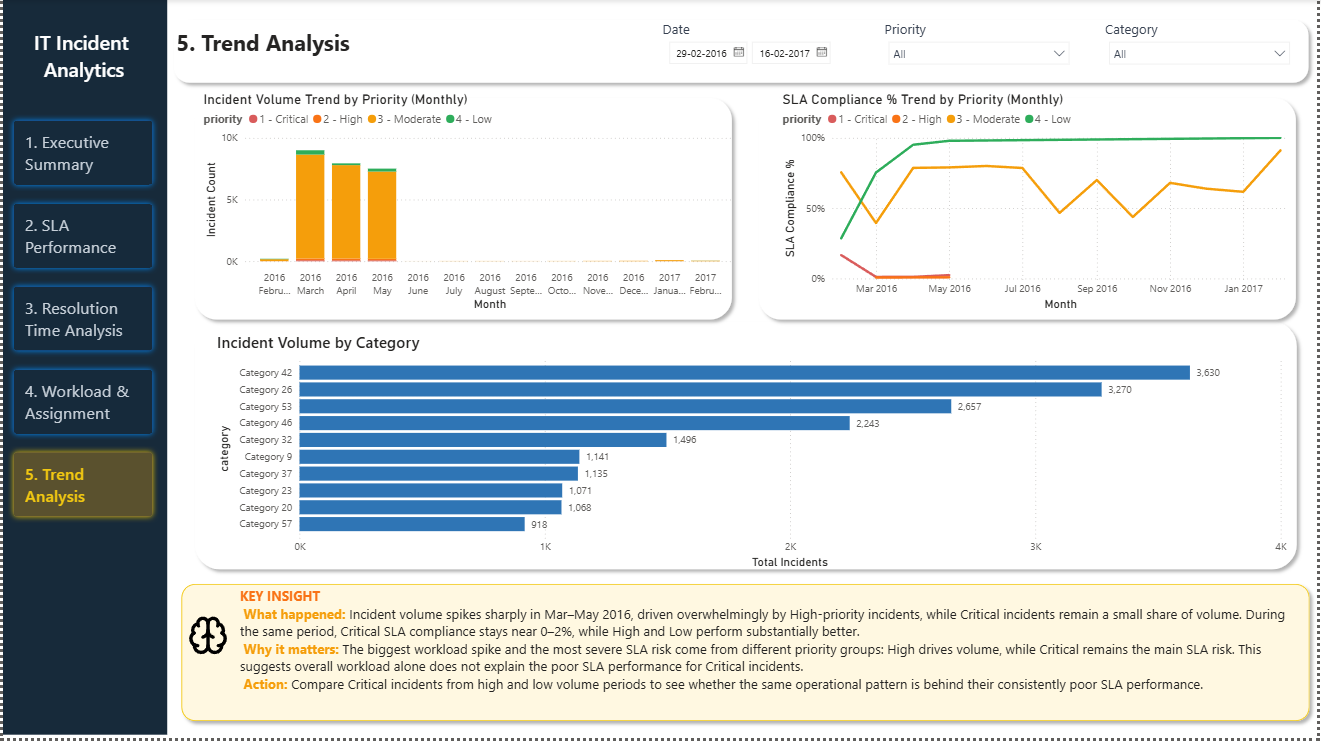

Layout of this report page (visuals, bound fields, positions):
{"tool":"powerbi","page":{"name":"5. Trend Analysis","canvas":[1600,900],"ordinal":4},"visuals":[{"type":"textbox","box":[16,0,272,64],"z":0},{"type":"shape","box":[200,16.9,1400,94.6],"z":0,"group":"g2"},{"type":"shape","box":[0,0,200,896],"z":1000,"group":"g3"},{"type":"lineChart","title":"Incident Volume Trend by Priority (Monthly)","fields":{"Category":["incidents.opened_at.Variation.Date Hierarchy.Year","incidents.opened_at.Variation.Date Hierarchy.Month"],"Y":["CountNonNull(incidents.number)"],"Series":["incidents.priority"]},"box":[16,144,608,496],"z":1000},{"type":"lineChart","title":"SLA Compliance % Trend by Priority (Monthly)","fields":{"Category":["incidents.opened_at.Variation.Date Hierarchy.Year","incidents.opened_at.Variation.Date Hierarchy.Month"],"Y":["_Measures.SLA Compliance %"],"Series":["incidents.priority"]},"box":[640,16,544,352],"z":2000},{"type":"clusteredBarChart","title":"Incident Volume by Category","fields":{"Category":["incidents.category"],"Y":["CountNonNull(incidents.number)"]},"box":[672,384,544,320],"z":3000},{"type":"group","id":"g1","title":"Group 6","box":[0,0,1600,896],"z":3001},{"type":"group","id":"g2","title":"Group 2","box":[200,16.9,1400,94.6],"z":7000,"group":"g1"},{"type":"slicer","title":"Date","fields":{"Values":["incidents.opened_at"]},"box":[800,25.9,240,64.7],"z":7000,"group":"g2"},{"type":"slicer","title":"Priority","fields":{"Values":["incidents.priority"]},"box":[1069.5,25.9,240,64.7],"z":8000,"group":"g2"},{"type":"slicer","title":"Category","fields":{"Values":["incidents.category"]},"box":[1339,25.9,240,64.7],"z":9000,"group":"g2"},{"type":"textbox","box":[208,29.8,290,47.8],"z":10000,"group":"g2"},{"type":"textbox","box":[18,31.9,154,75.7],"z":11000,"group":"g3"},{"type":"pageNavigator","box":[6,141.4,184,497.8],"z":12000,"group":"g3"},{"type":"group","id":"g3","title":"Group 4","box":[0,0,200,896],"z":13001,"group":"g1"}]}

Visuals, with their boxes in screenshot pixels (x1, y1, x2, y2), scaled from the page's 1600x900 canvas onto the 1321x744 screenshot:
textbox: [13,0,238,53]
shape: [165,14,1320,92]
shape: [0,0,165,741]
"Incident Volume Trend by Priority (Monthly)" lineChart: [13,119,515,529]
"SLA Compliance % Trend by Priority (Monthly)" lineChart: [528,13,978,304]
"Incident Volume by Category" clusteredBarChart: [555,317,1004,582]
"Group 6" group: [0,0,1320,741]
"Group 2" group: [165,14,1320,92]
"Date" slicer: [660,21,859,75]
"Priority" slicer: [883,21,1081,75]
"Category" slicer: [1106,21,1304,75]
textbox: [172,25,411,64]
textbox: [15,26,142,89]
pageNavigator: [5,117,157,528]
"Group 4" group: [0,0,165,741]
